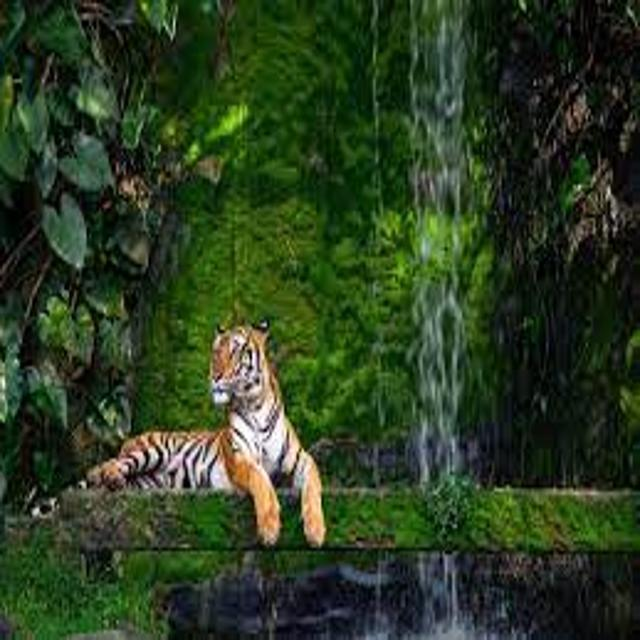Tiger: (82, 306, 370, 557)
